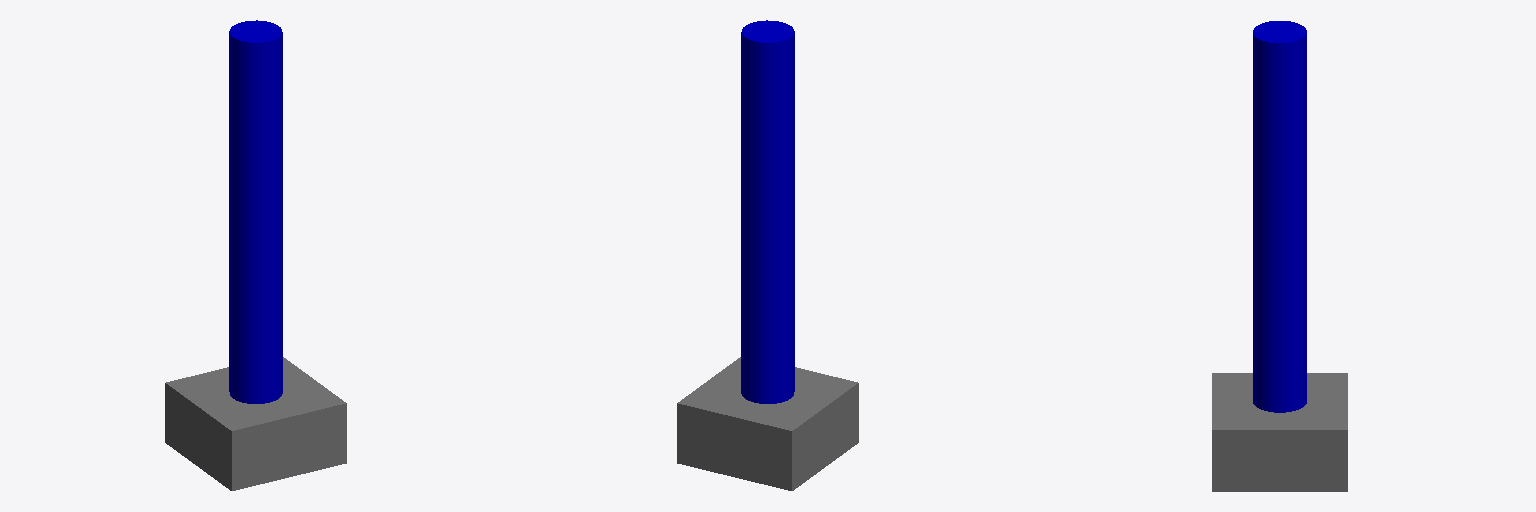
robot.urdf — linear_actuator:
<?xml version="1.0"?>
<robot name="linear_actuator">
    <!-- Base Link -->
    <link name="base_link">
        <visual>
            <geometry>
                <box size="0.1 0.1 0.05"/>
            </geometry>
            <material name="gray">
                <color rgba="0.5 0.5 0.5 1"/>
            </material>
        </visual>
        <collision>
            <geometry>
                <box size="0.1 0.1 0.05"/>
            </geometry>
        </collision>
        <inertial>
            <mass value="1.0"/>
            <inertia ixx="0.001" ixy="0.0" ixz="0.0" 
                     iyy="0.001" iyz="0.0" 
                     izz="0.001"/>
        </inertial>
    </link>

    <!-- Sliding Link -->
    <link name="slider_link">
        <visual>
            <geometry>
                <cylinder radius="0.02" length="0.3"/>
            </geometry>
            <material name="blue">
                <color rgba="0.0 0.0 0.8 1"/>
            </material>
        </visual>
        <collision>
            <geometry>
                <cylinder radius="0.02" length="0.3"/>
            </geometry>
        </collision>
        <inertial>
            <mass value="0.5"/>
            <inertia ixx="0.001" ixy="0.0" ixz="0.0" 
                     iyy="0.001" iyz="0.0" 
                     izz="0.0001"/>
        </inertial>
    </link>

    <!-- Prismatic Joint -->
    <joint name="slider_joint" type="prismatic">
        <parent link="base_link"/>
        <child link="slider_link"/>
        <origin xyz="0 0 0.175" rpy="0 0 0"/>
        <axis xyz="0 0 1"/>
        <limit effort="100.0" lower="0.0" upper="0.3" velocity="1.0"/>
        <dynamics damping="0.7" friction="0.0"/>
    </joint>

    <!-- Transmission for control -->
    <transmission name="slider_trans">
        <type>transmission_interface/SimpleTransmission</type>
        <joint name="slider_joint">
            <hardwareInterface>hardware_interface/PositionJointInterface</hardwareInterface>
        </joint>
        <actuator name="slider_motor">
            <hardwareInterface>hardware_interface/PositionJointInterface</hardwareInterface>
            <mechanicalReduction>1</mechanicalReduction>
        </actuator>
    </transmission>
</robot>

--- What the picture shows (computed from the rendered views, not written in the file) ---
Views: 3 orthographic renders of the robot side by side, from view 1: azimuth 30°, elevation 25°; view 2: azimuth 150°, elevation 25°; view 3: azimuth 270°, elevation 25°.
Model linear_actuator with 2 links and 1 joints (1 prismatic), rooted at base_link, posed all joints at 0.
Links seen in each view (by area): view 1: slider_link, base_link; view 2: slider_link, base_link; view 3: slider_link, base_link.
Boxes of the visible links, box(x1,y1,x2,y2) form: slider_link: box(229, 20, 282, 403); base_link: box(165, 357, 346, 490); slider_link: box(741, 20, 794, 403); base_link: box(677, 357, 858, 490); slider_link: box(1253, 21, 1306, 412); base_link: box(1212, 373, 1347, 491).
Bounding box of the posed robot: 0.1 × 0.1 × 0.35 m (x, y, z).
Geometry: primitives only (box / cylinder / sphere), no mesh files.